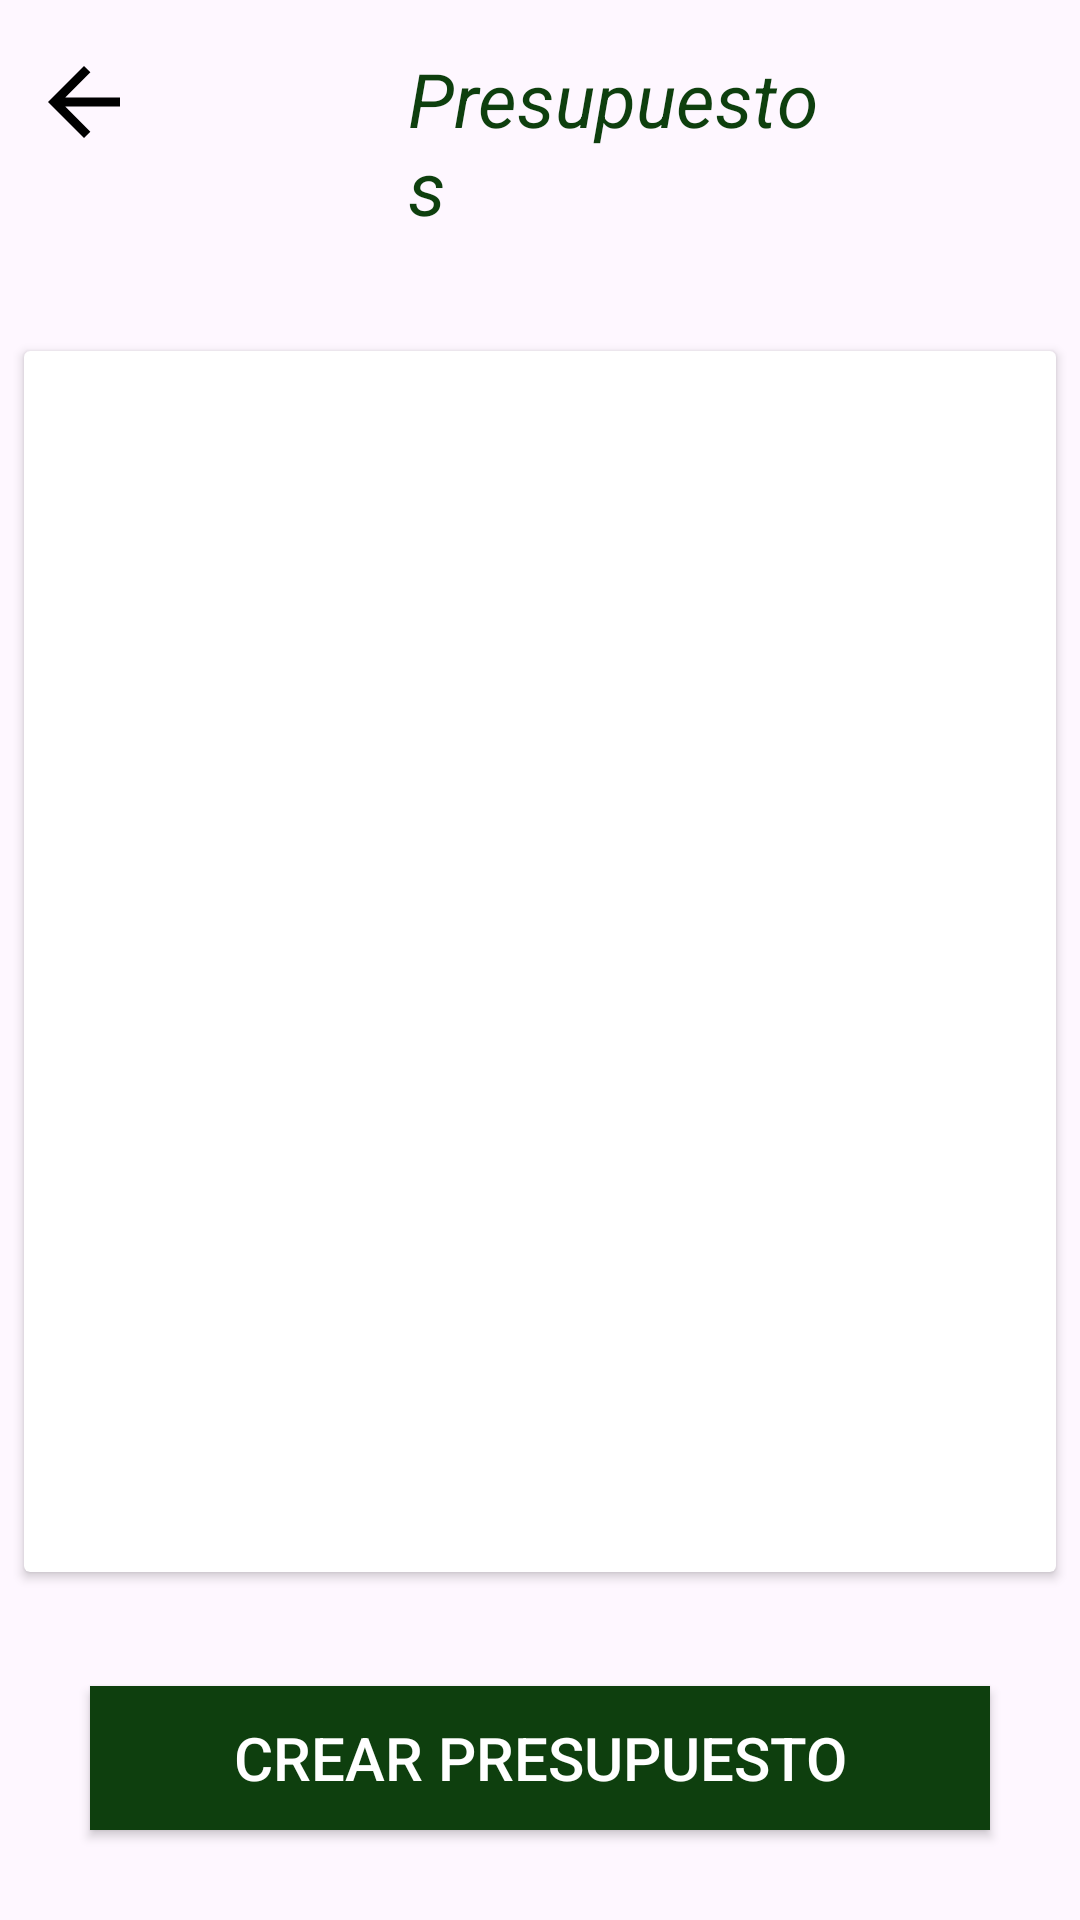

Screen size 1080×1920. Icon name, then its box in pixels as (x1, y1, x2, y2):
arrow back: (48, 66, 120, 138)
